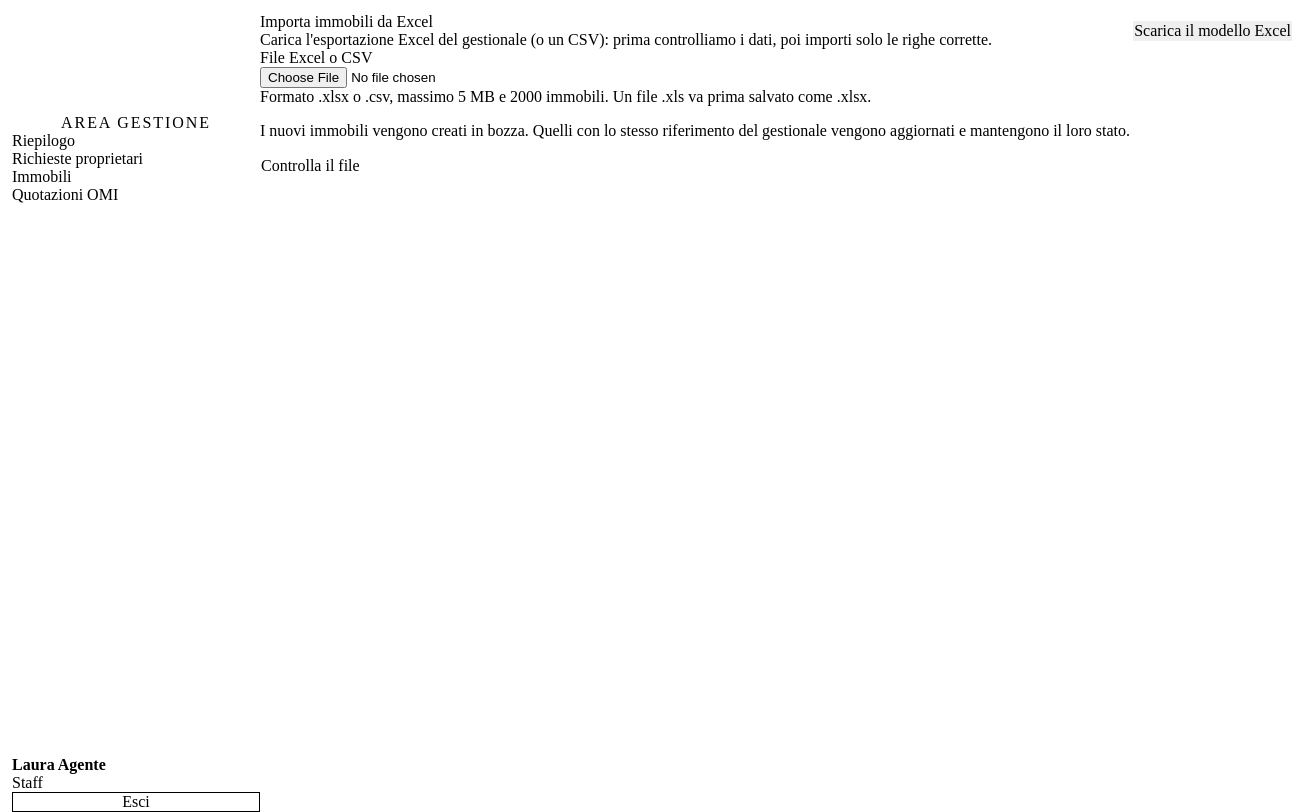
it: Excel import › checks the file and shows what will be created, updated and skipped
Earlier steps of the test are not shown.
What coordinates should you click on to do the following:
click the button "Controlla il file"
I would click on:
 (310, 166)
Its box is [260,156,361,176].
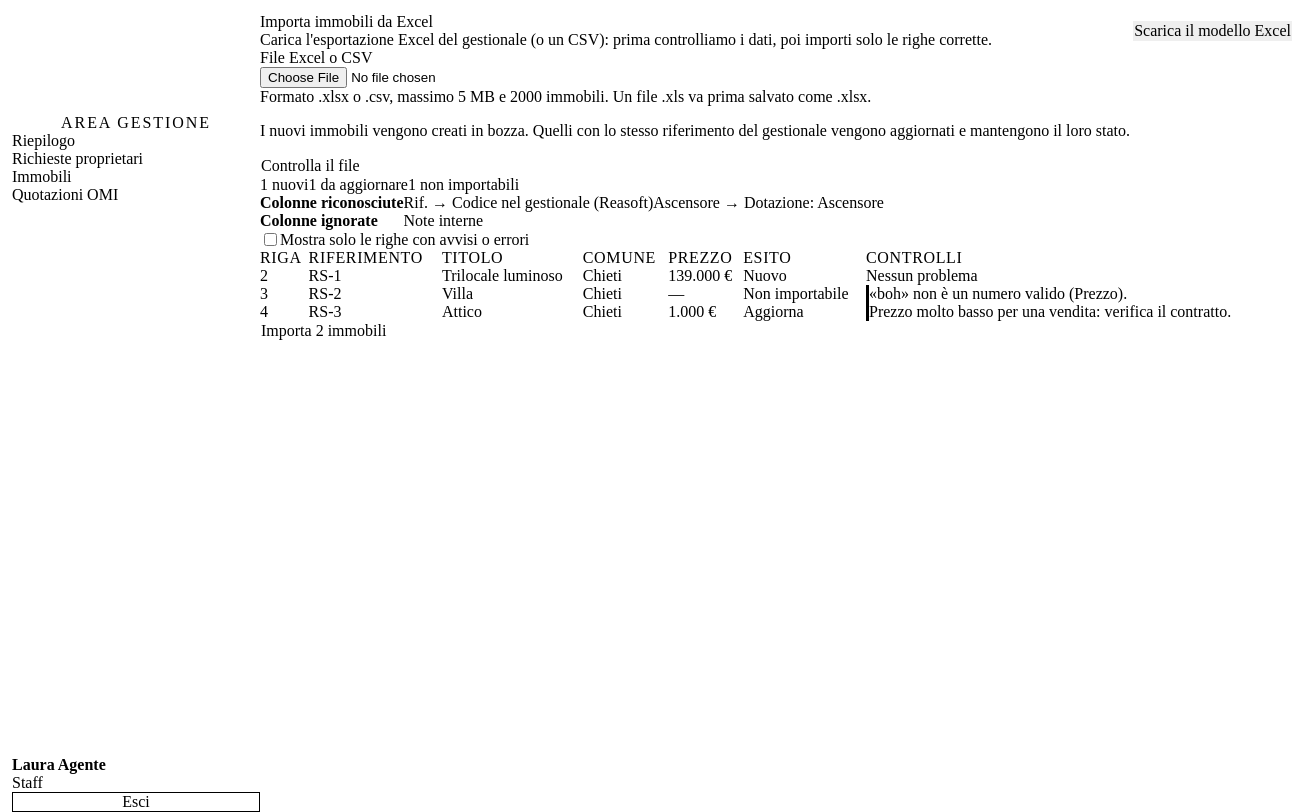
Expected: the text "1 nuovi" is shown, [260,176,308,194]
Expected: the text "1 da aggiornare" is shown, [308,176,408,194]
Expected: the text "1 non importabili" is shown, [408,176,519,194]
